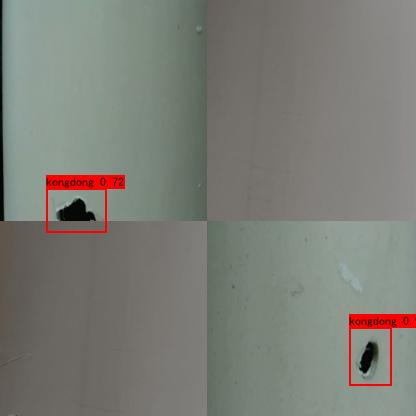kongdong: (50, 194, 98, 222), (353, 341, 384, 379)
